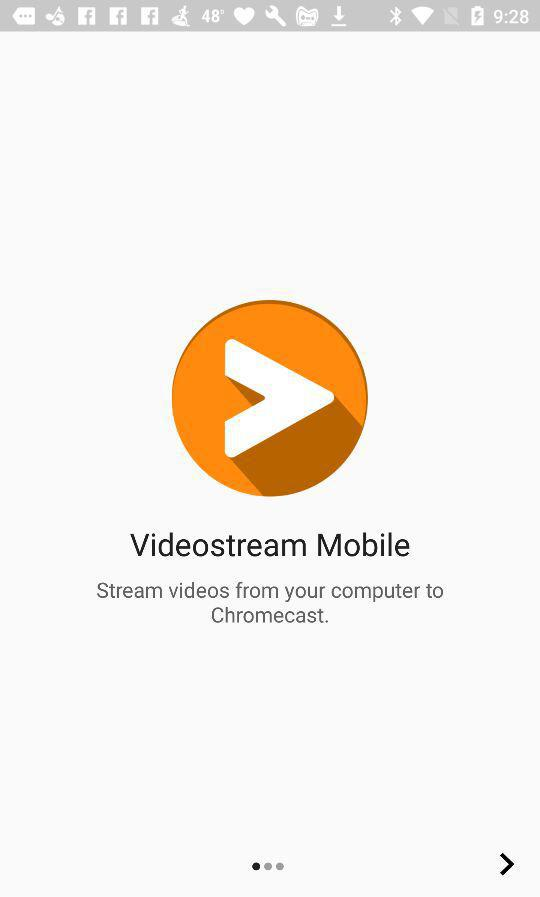Icon: (498, 852, 515, 877)
Image: (171, 299, 368, 497)
PageIndicator: (251, 861, 286, 873)
Text: (96, 581, 445, 625), (129, 529, 411, 559)
UpperTaskBar: (1, 1, 540, 33)
